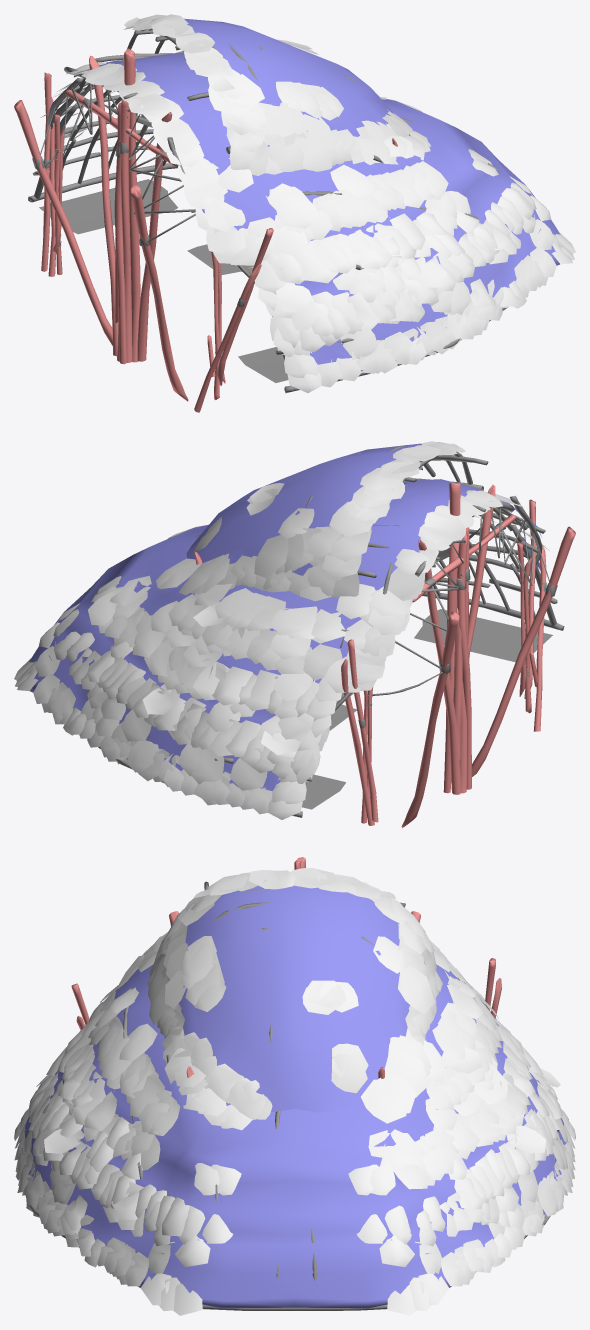
File: SM_village_hut_large_A.gltf
3 renders of one model, top to bottom at view 1: azimuth 30°, elevation 25°; view 2: azimuth 150°, elevation 25°; view 3: azimuth 270°, elevation 25°, orthographic. The views are drawn at different scales.
Visible parts, largest first — view 1: SM_village_hut_large_A; view 2: SM_village_hut_large_A; view 3: SM_village_hut_large_A.
Boxes of the visible parts, bbox=[...] form: SM_village_hut_large_A: bbox=[14, 14, 575, 412]; SM_village_hut_large_A: bbox=[14, 441, 575, 828]; SM_village_hut_large_A: bbox=[14, 857, 575, 1315].
Bounding box in the file's own units: 15.13 × 10.95 × 15.85.
